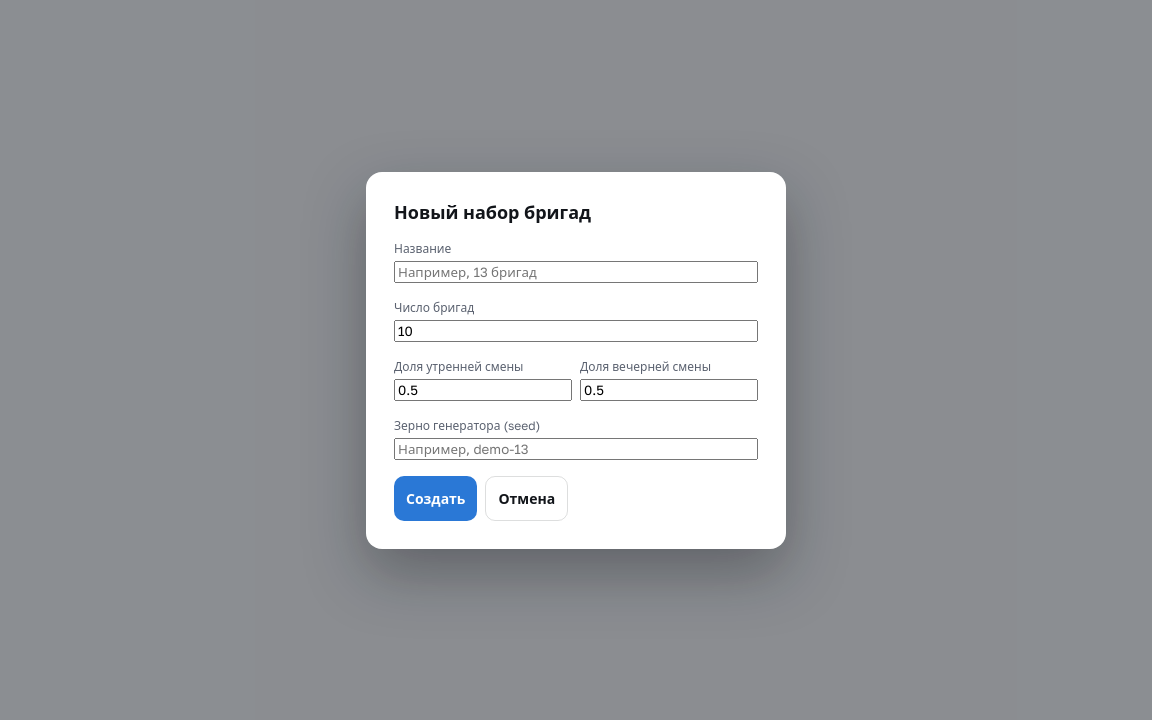
Test: EngineerSetCreateForm › rejects an empty name and seed before sending the request
Replace the text in the number field labelled "Число бригад" with "13" at (576, 330), box [394,320,758,342]
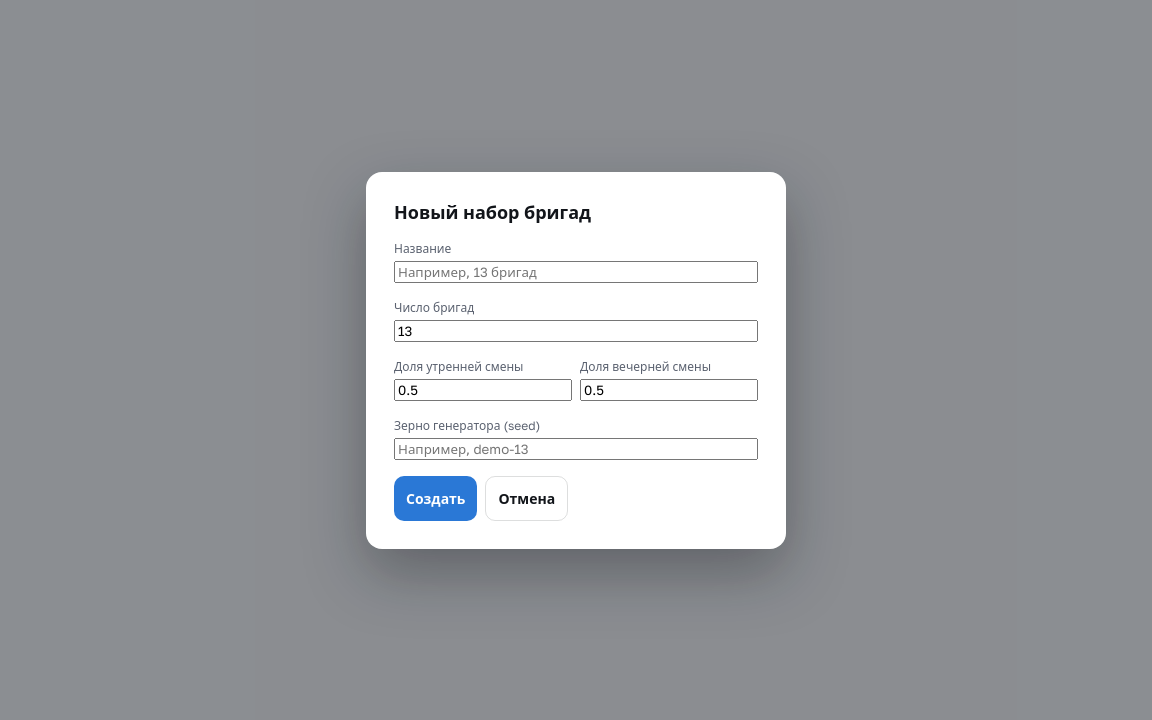
Click the button "Создать" at (436, 498), box [394,476,478,520]
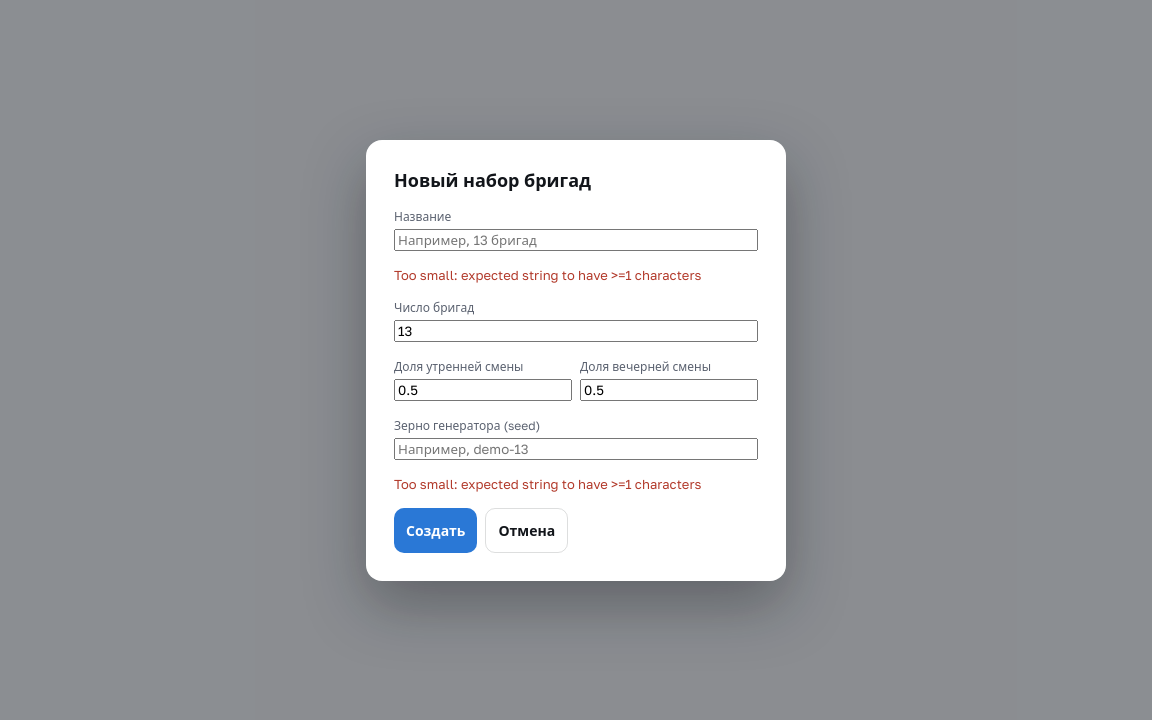
Expected: the 1st text "Too small: expected string to have >=1 characters" is shown, [394,266,701,282]
